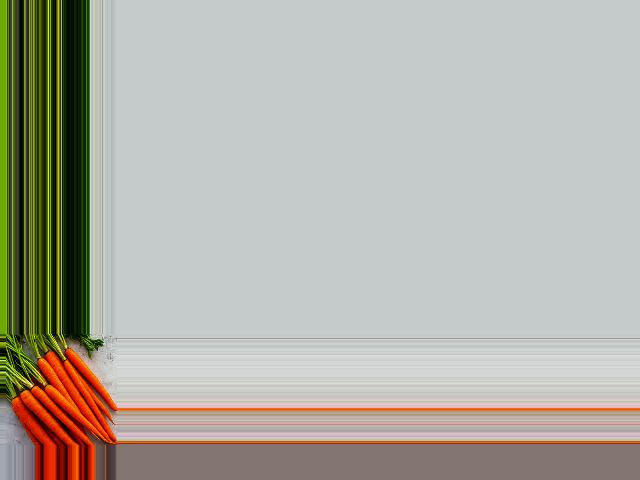carrot: (11, 396, 48, 446)
